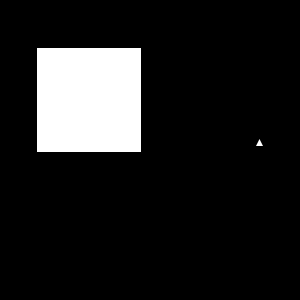circle: (37, 48, 141, 152)
triangle: (256, 139, 263, 146)
